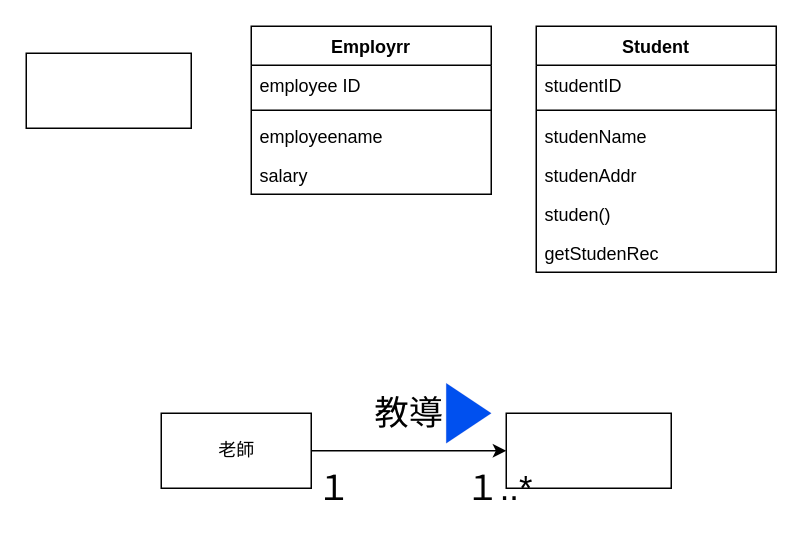
Image size: 803x545. Some labels were removed from this diagram. Each missing label, with the box of its shape:
Coustomer: (25, 52, 191, 128)
學生: (505, 412, 671, 488)
